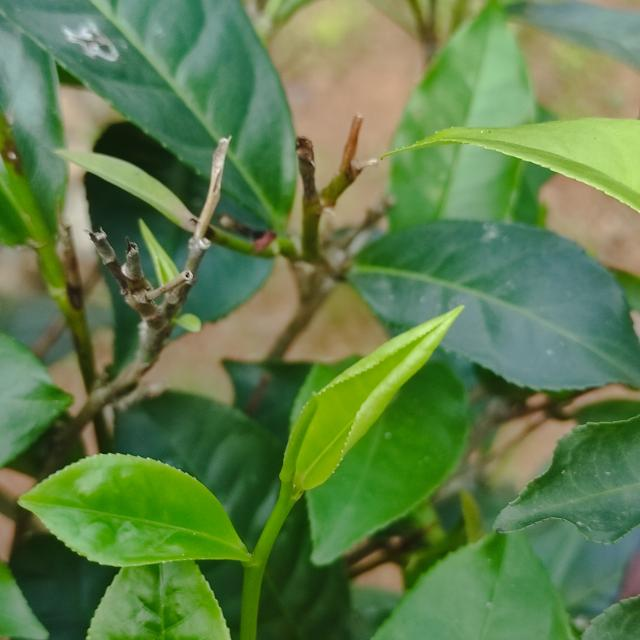unopened_leaf: (276, 382, 328, 491)
